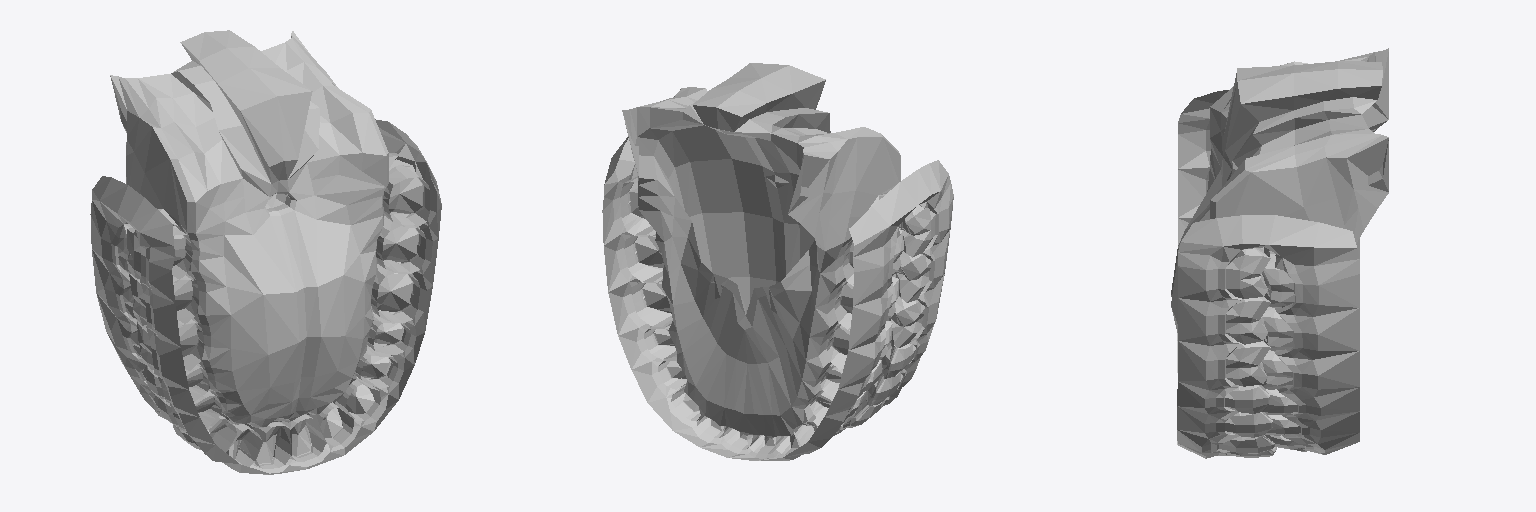
The model's file is Human Jaw.obj.
3 renders of one model, left to right at view 1: azimuth 30°, elevation 25°; view 2: azimuth 150°, elevation 25°; view 3: azimuth 270°, elevation 25°, orthographic.
Parts seen in each view (by area): view 1: Human_Jaw; view 2: Human_Jaw; view 3: Human_Jaw.
Boxes of the visible parts, x1=… form: Human_Jaw: x1=90, y1=30, x2=441, y2=474; Human_Jaw: x1=602, y1=63, x2=953, y2=460; Human_Jaw: x1=1171, y1=48, x2=1388, y2=458.
Bounding box in the file's own units: 6.87 × 8.48 × 4.49.